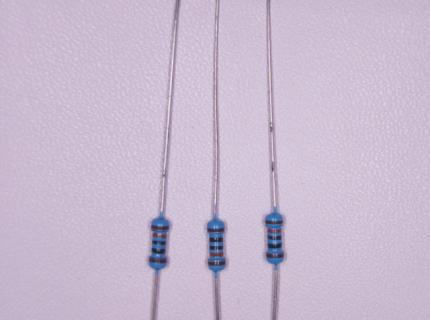Black band: (268, 243, 282, 249), (152, 248, 166, 254), (209, 237, 223, 242), (209, 246, 224, 250), (268, 236, 282, 240), (152, 241, 166, 245)
Brown band: (149, 257, 167, 263), (208, 260, 226, 266), (266, 253, 284, 259), (151, 225, 169, 230), (266, 220, 284, 224), (208, 228, 225, 232)
Orange band: (153, 233, 166, 238), (210, 252, 223, 257), (267, 229, 281, 233)
